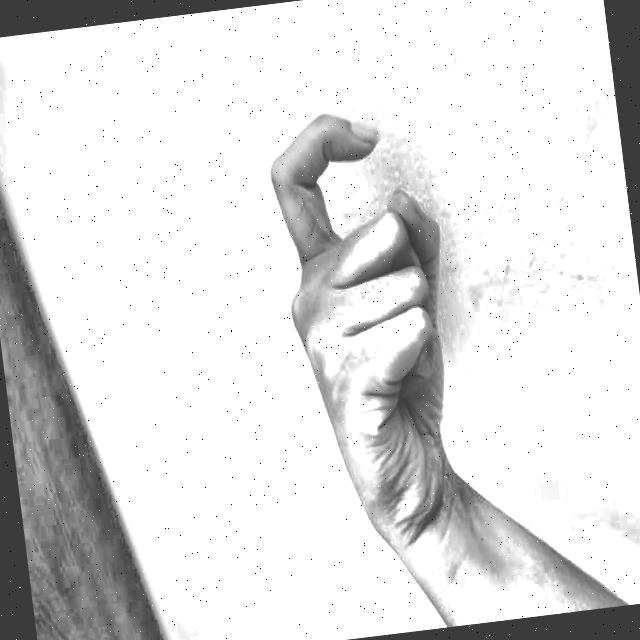E: (230, 66, 514, 540)
